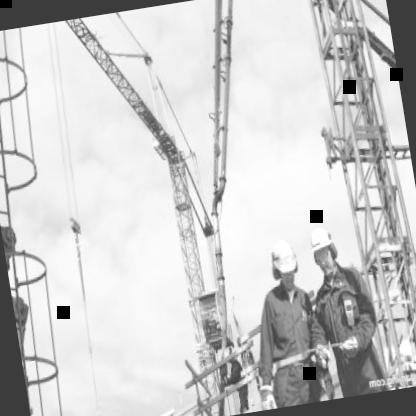helmet: (266, 230, 303, 294), (304, 221, 342, 278)
